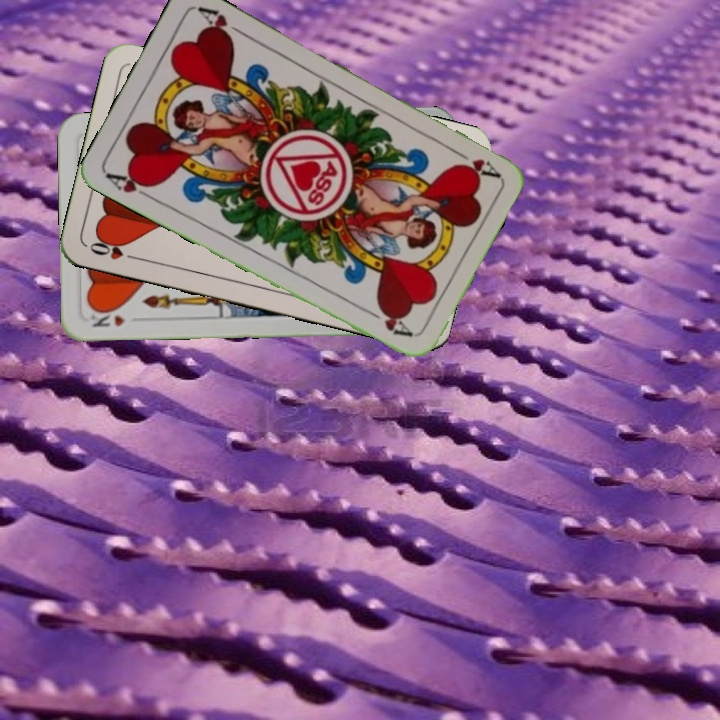HA: (102, 168, 158, 204), (446, 144, 501, 180)
HK: (87, 305, 128, 330)
HO: (85, 234, 143, 263)
